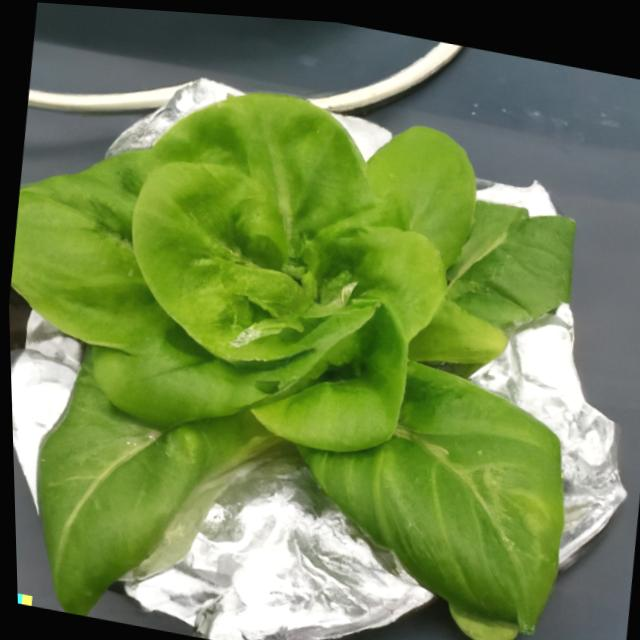-N: (1, 30, 632, 640)
